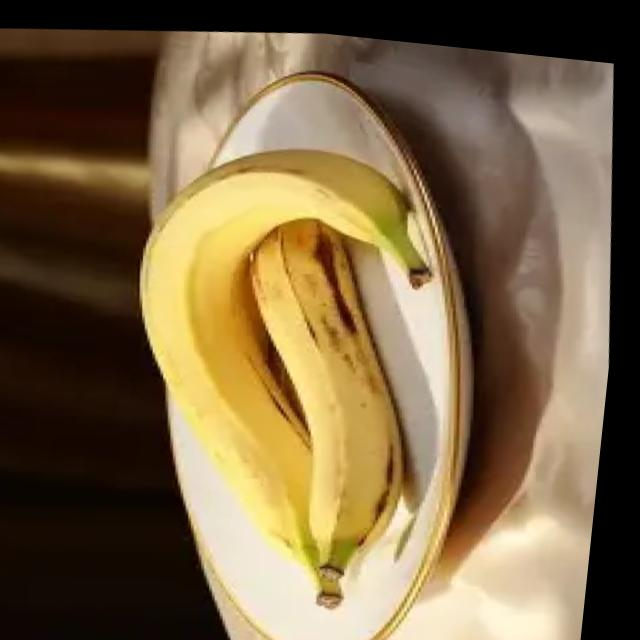BANANA: (140, 146, 431, 610)
